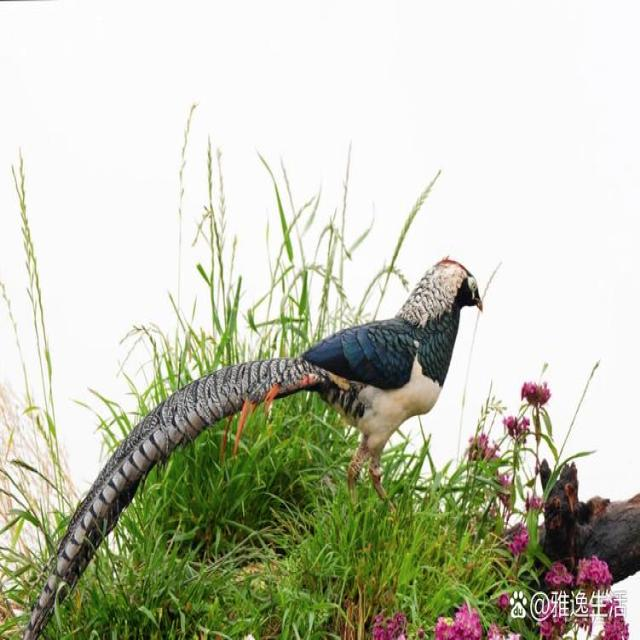Chrysolophus amherstiae: (25, 358, 340, 639)
